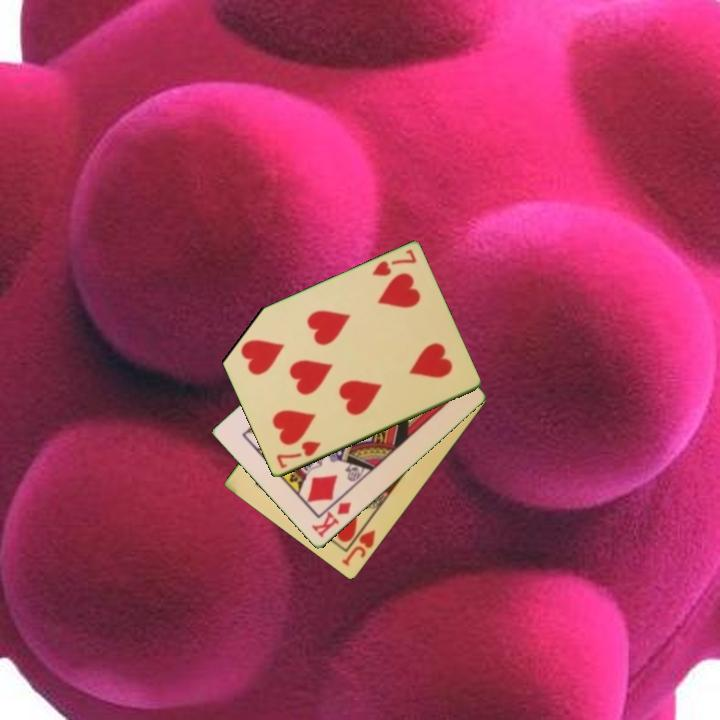7h: (272, 438, 324, 472), (368, 246, 419, 280)
Jh: (338, 527, 378, 570)
Kd: (308, 499, 354, 541)
